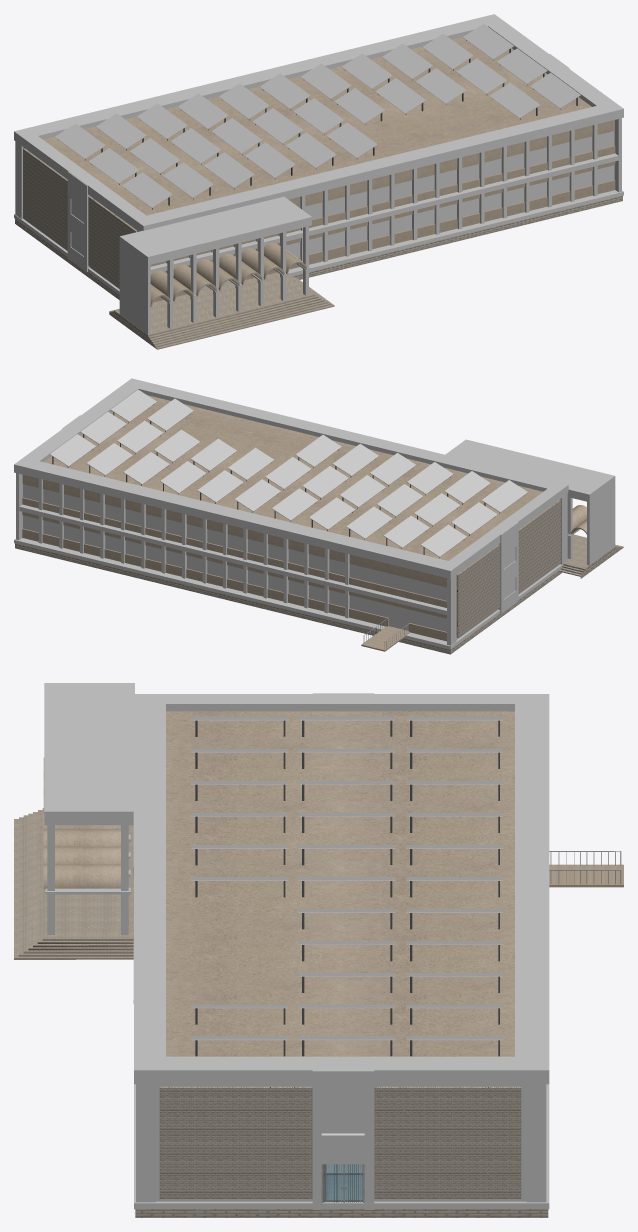
Rendered from social_building_fbx_final.fbx.
The picture shows the model from 3 angles, top to bottom: view 1: azimuth 30°, elevation 25°; view 2: azimuth 150°, elevation 25°; view 3: azimuth 270°, elevation 25°; orthographic projection. The views are drawn at different scales.
Visible parts, largest first — view 1: Line001, Group001; view 2: Line001, Group001; view 3: Line001, Group001.
Part boxes in pixels (bbox=[...]): Line001: bbox=[14, 14, 623, 349]; Group001: bbox=[55, 24, 614, 289]; Line001: bbox=[14, 378, 623, 654]; Group001: bbox=[23, 389, 527, 649]; Line001: bbox=[14, 683, 623, 1217]; Group001: bbox=[191, 716, 621, 1202].
Bounding box in the file's own units: 8647 × 1625 × 5634.
